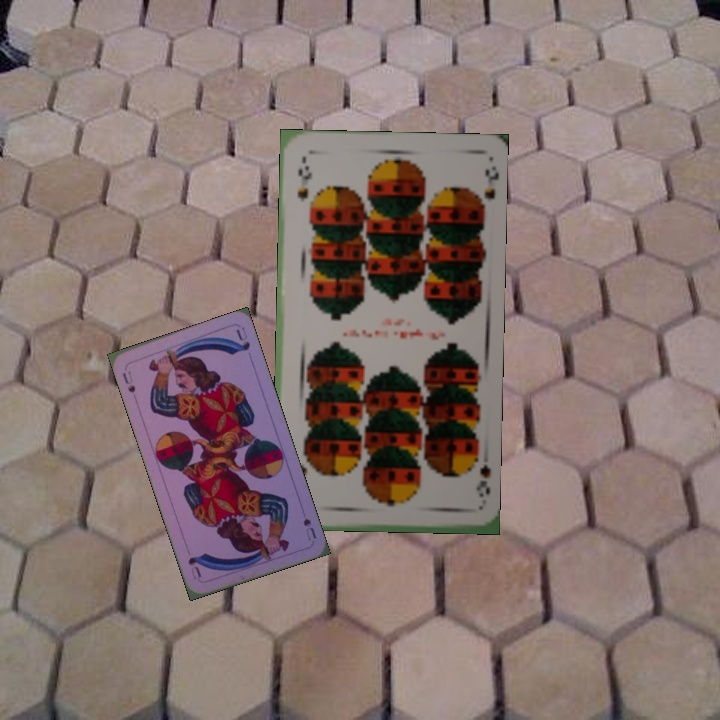S9: (465, 448, 492, 500), (293, 154, 313, 205)
SU: (299, 514, 319, 543), (118, 366, 138, 395)
